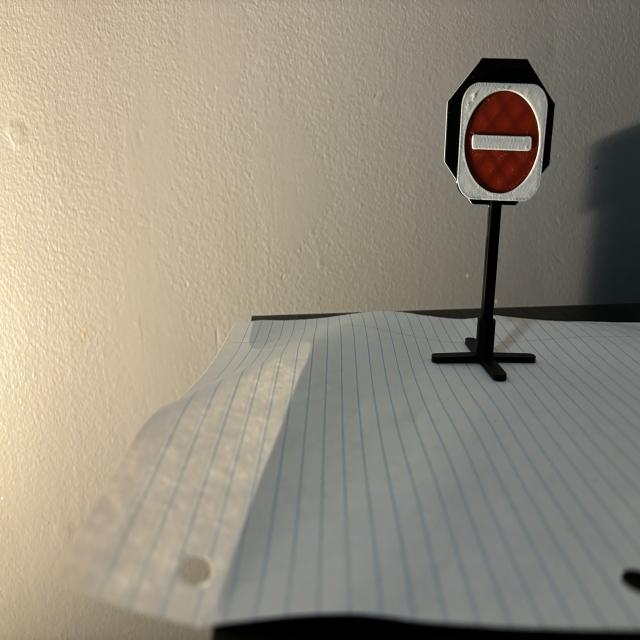sign_noentry: (459, 82, 547, 202)
